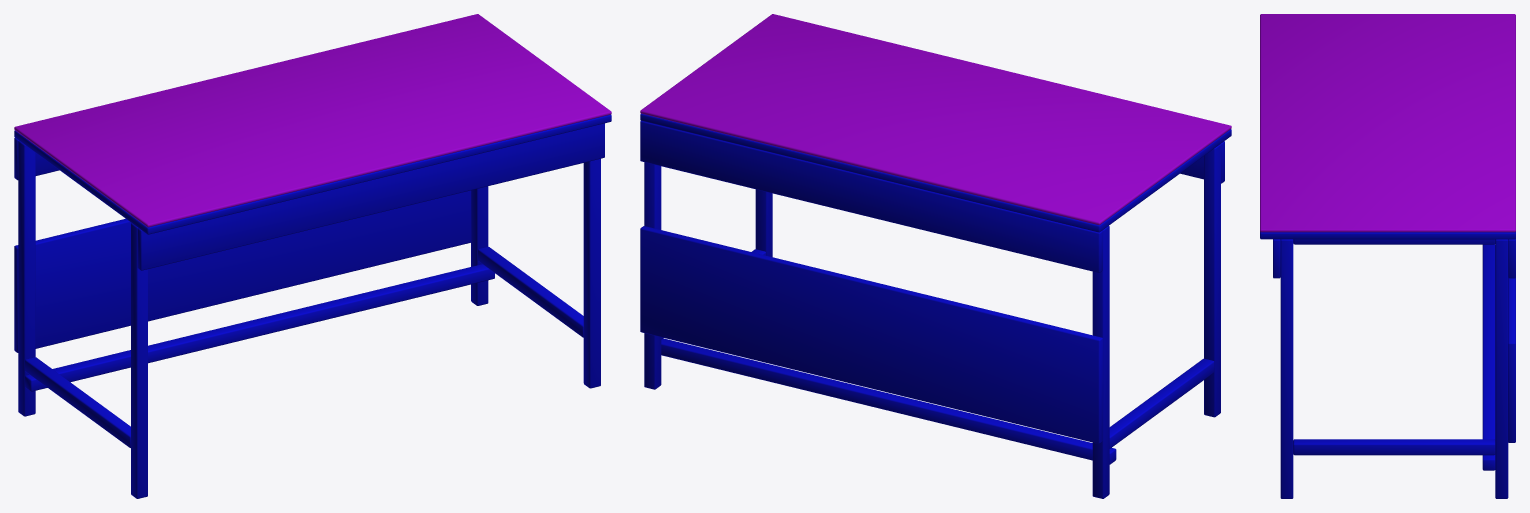
The model's file is S_Paillace.fbx.
3 views of the same model, side by side, from view 1: azimuth 30°, elevation 25°; view 2: azimuth 150°, elevation 25°; view 3: azimuth 270°, elevation 25° (orthographic). The views are drawn at different scales.
Visible parts, largest first — view 1: Cube.024; view 2: Cube.024; view 3: Cube.024.
Part boxes in pixels (<box>): Cube.024: <box>14,14,611,498</box>; Cube.024: <box>640,14,1231,498</box>; Cube.024: <box>1260,14,1515,498</box>.
Bounding box in the file's own units: 78.74 × 45.83 × 39.37.
